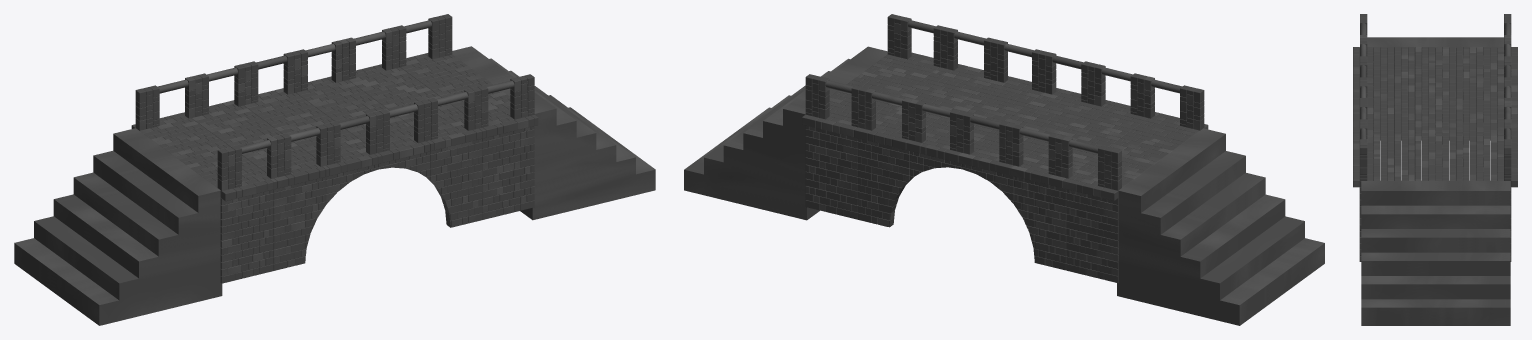
File: Bridge.fbx
3 renders of one model, left to right at view 1: azimuth 30°, elevation 25°; view 2: azimuth 150°, elevation 25°; view 3: azimuth 270°, elevation 25°, orthographic. The views are drawn at different scales.
Visible parts, largest first — view 1: Cube.003; view 2: Cube.003; view 3: Cube.003.
Boxes of the visible parts, x1=… form: Cube.003: x1=14, y1=14, x2=655, y2=325; Cube.003: x1=684, y1=14, x2=1324, y2=325; Cube.003: x1=1353, y1=14, x2=1517, y2=325.
Bounding box in the file's own units: 7944 × 1962 × 2324.
